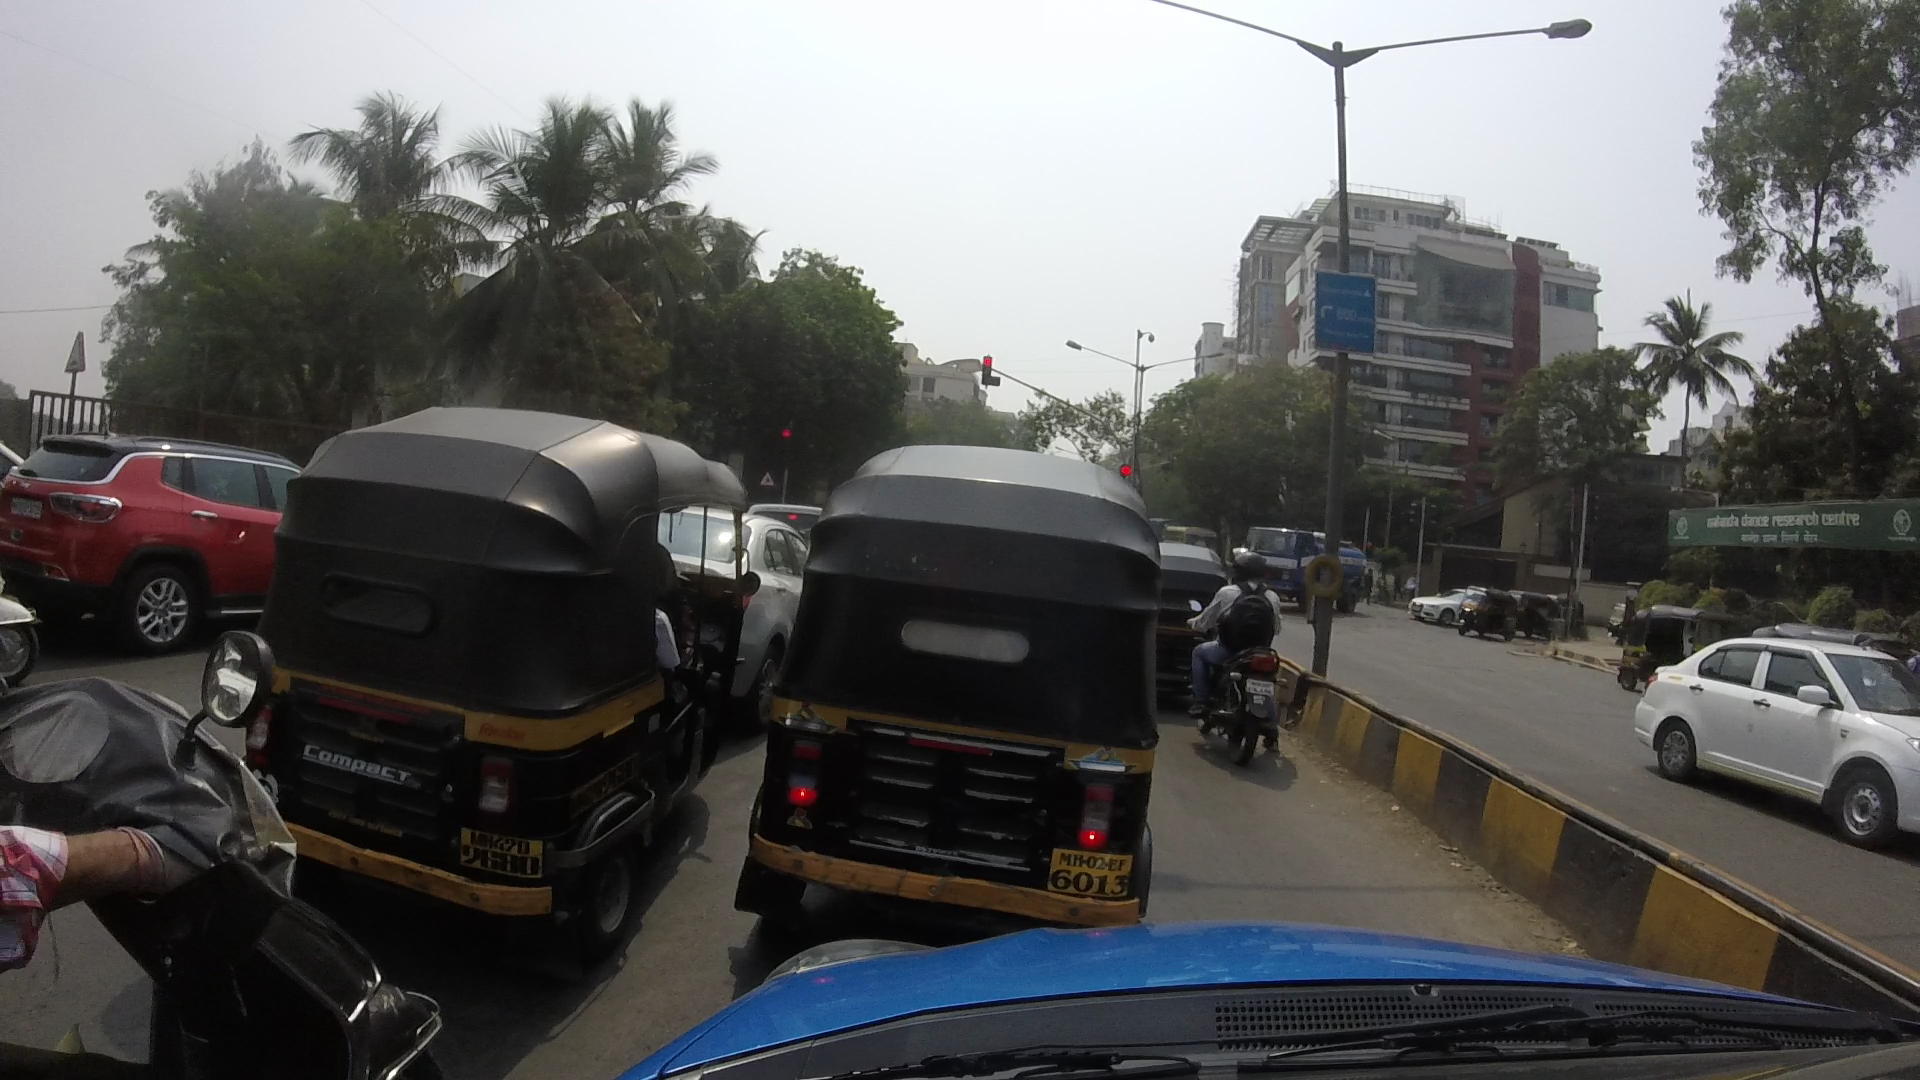bike/scooter: (8, 676, 444, 1080), (1182, 549, 1287, 757)
car: (13, 430, 319, 654), (1643, 640, 1920, 832), (678, 498, 825, 654)
rickshaw: (276, 410, 752, 924), (746, 433, 1160, 930)
